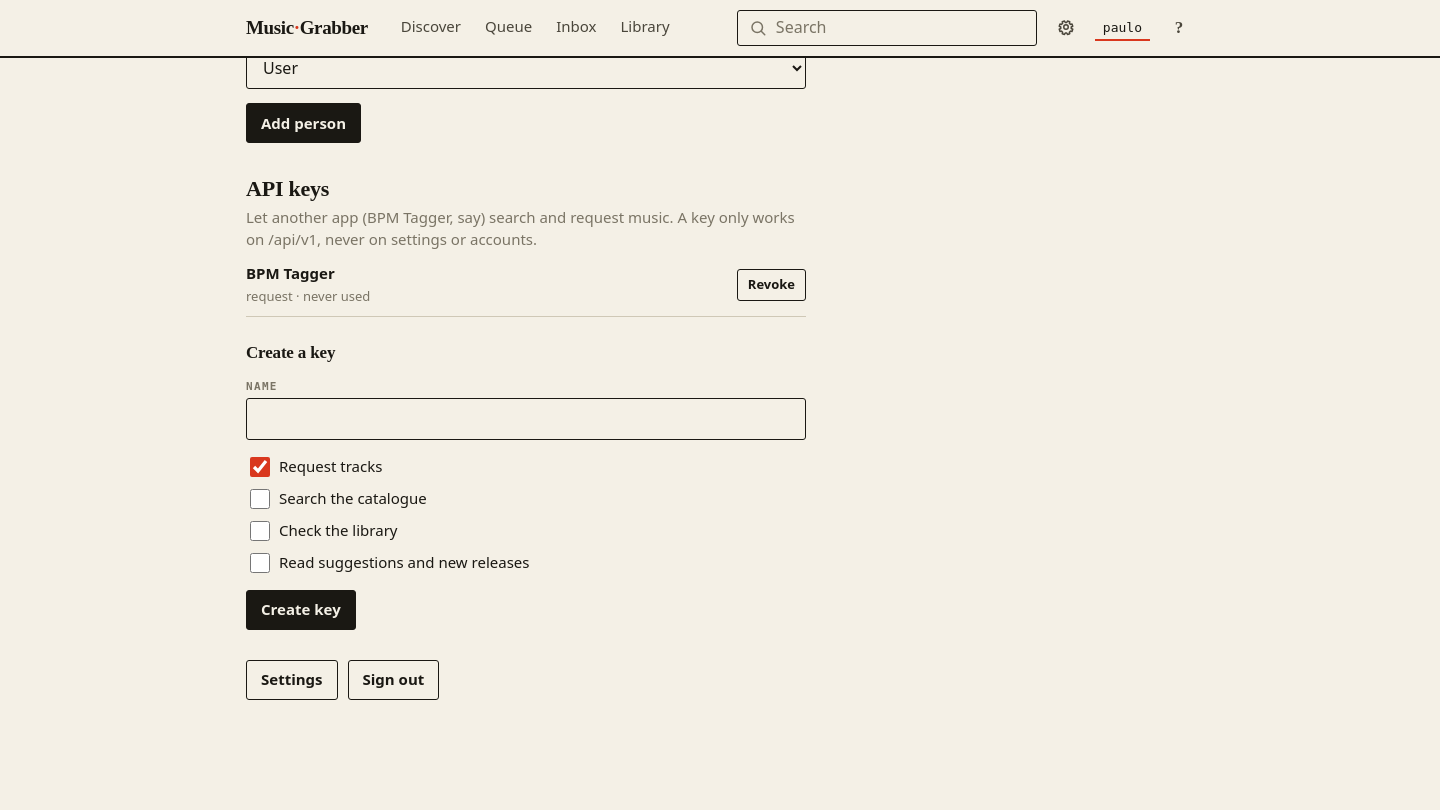
Test: account › admins create an API key and see it once
The image size is (1440, 810).
(page scrolled)
Expected: the text "BPM Tagger" is shown, top-left (246, 263), bottom-right (335, 283)
Type "Other app" into the field labelled "Name" at (526, 419), box top-left (246, 398), bottom-right (806, 440)
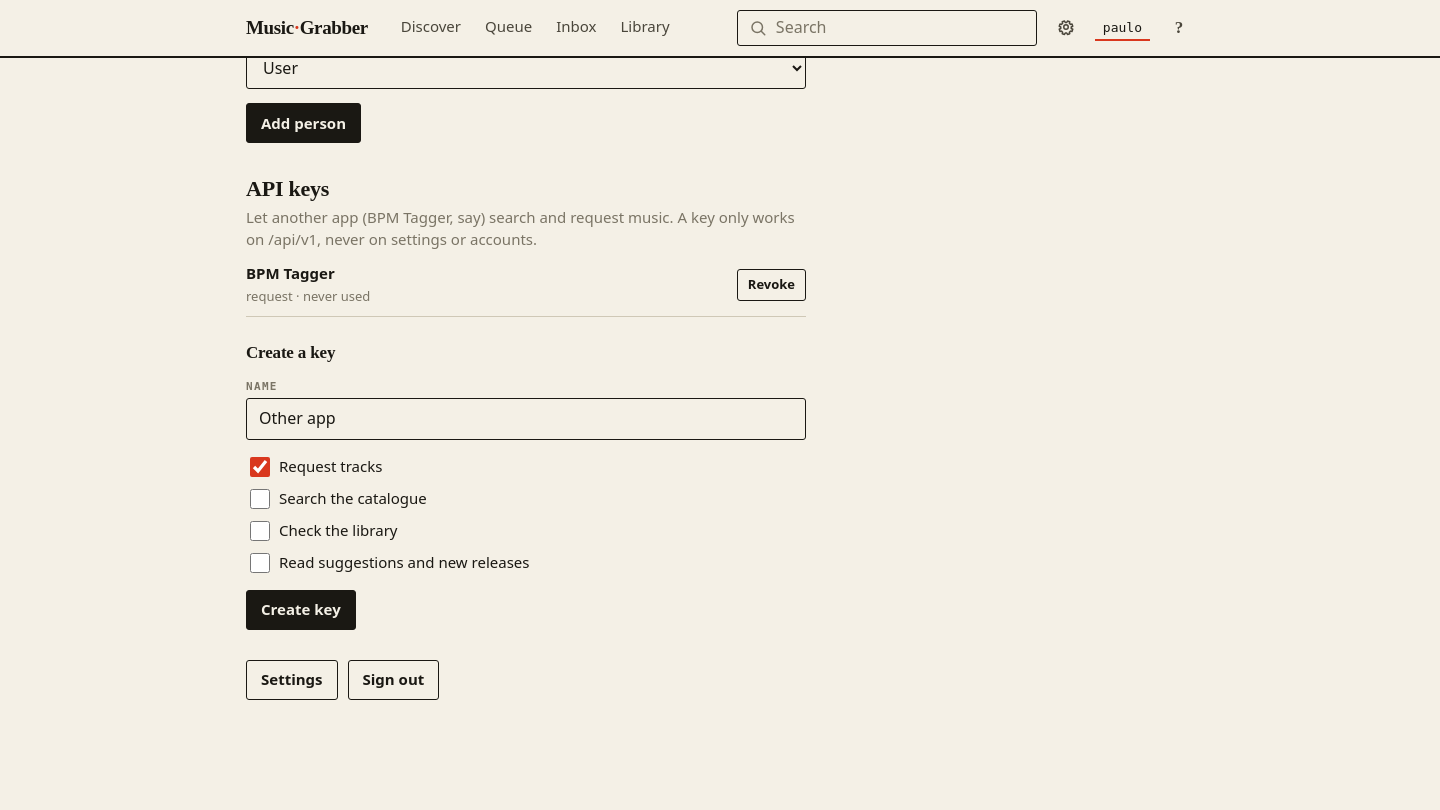
Click the checkbox labelled "Check the library" at (260, 531), box top-left (250, 521), bottom-right (270, 541)
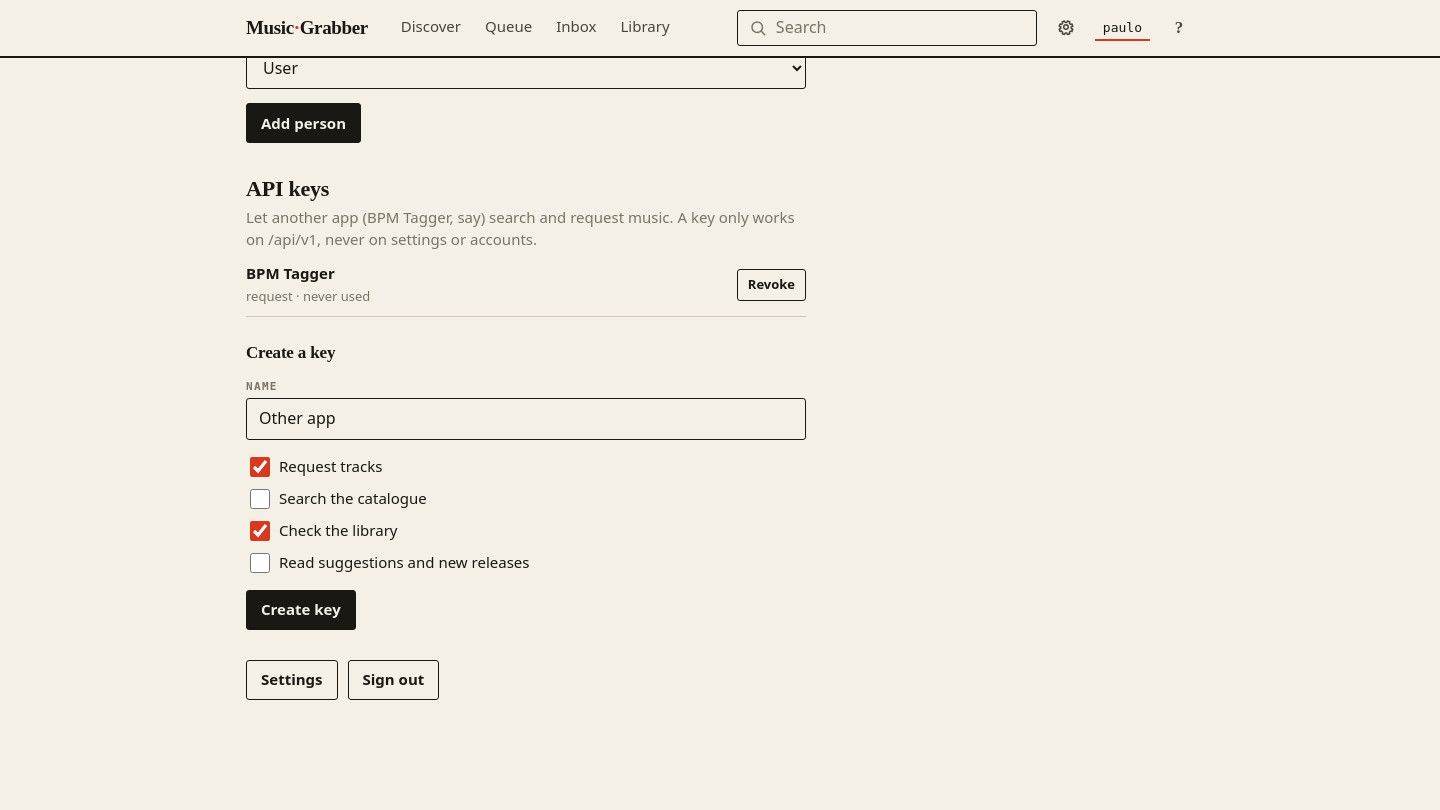
Click the button "Create key" at (301, 610), box top-left (246, 590), bottom-right (356, 630)
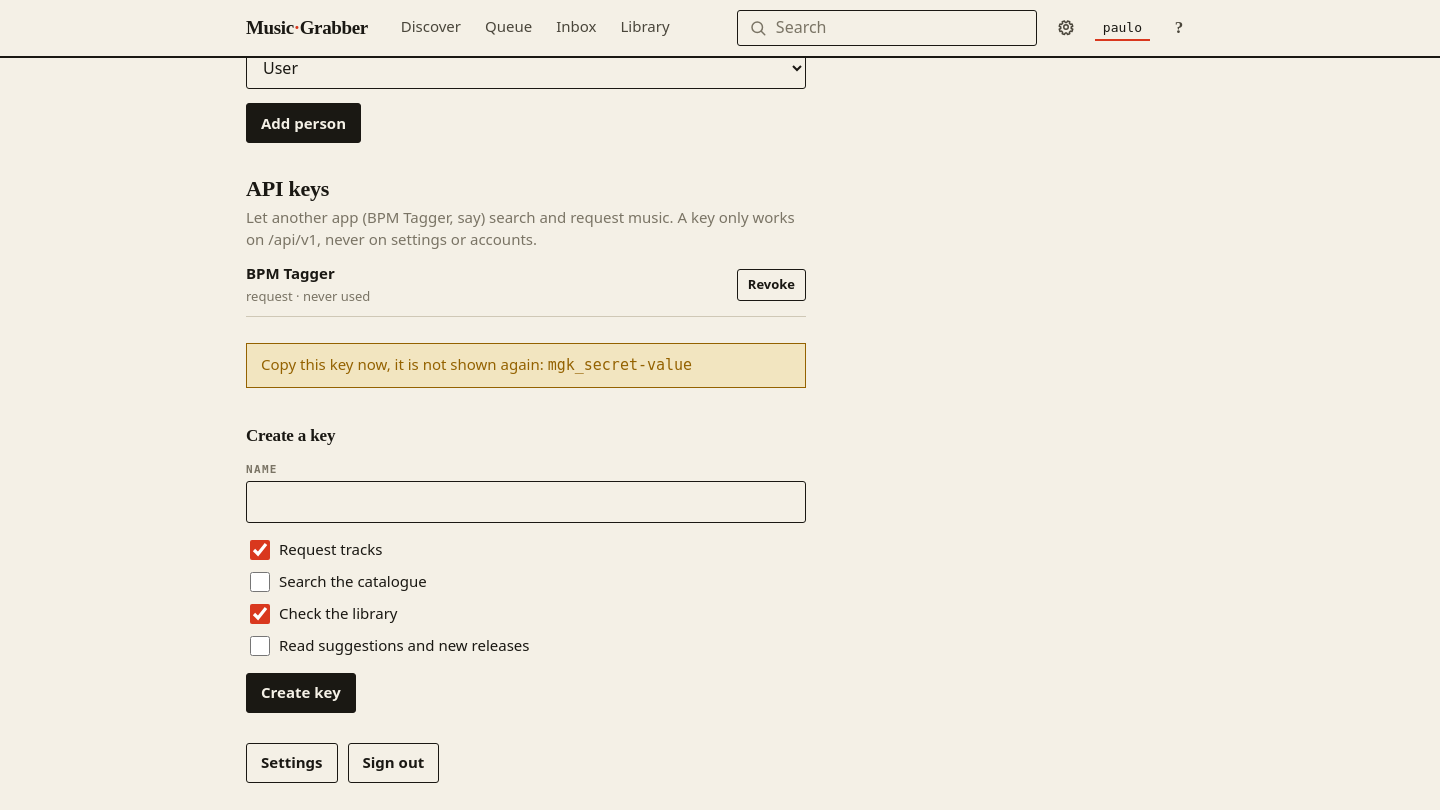
Now the text "mgk_secret-value" is shown, box top-left (548, 356), bottom-right (692, 374)
